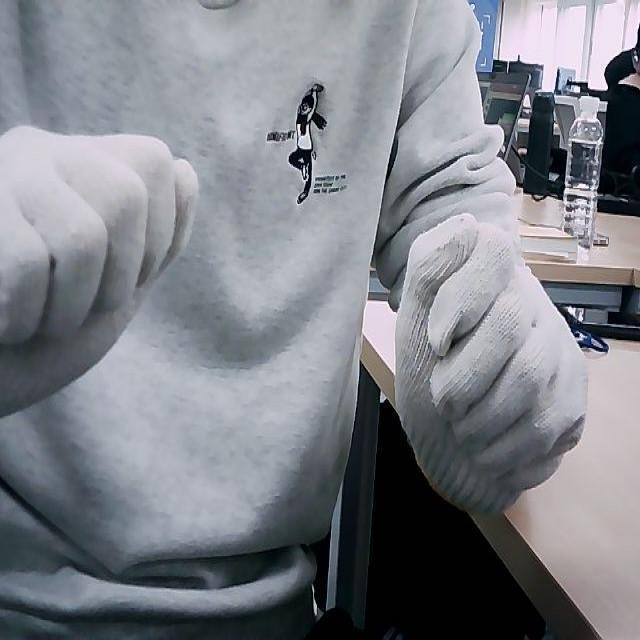Guantes: (394, 210, 594, 514), (0, 124, 198, 420)
